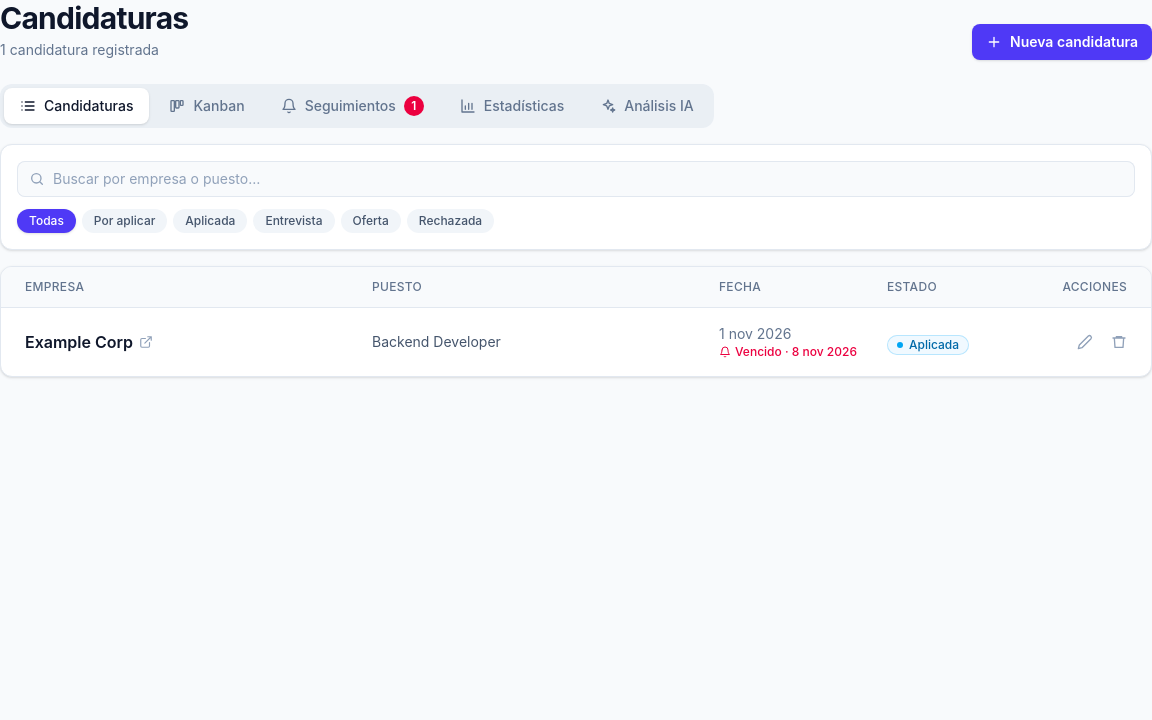
Test: ApplicationsPage › edits an application with the form pre-filled
Click the button named "Editar Backend Developer en Example Corp". click: (1085, 342)
box: [1069, 326, 1101, 358]
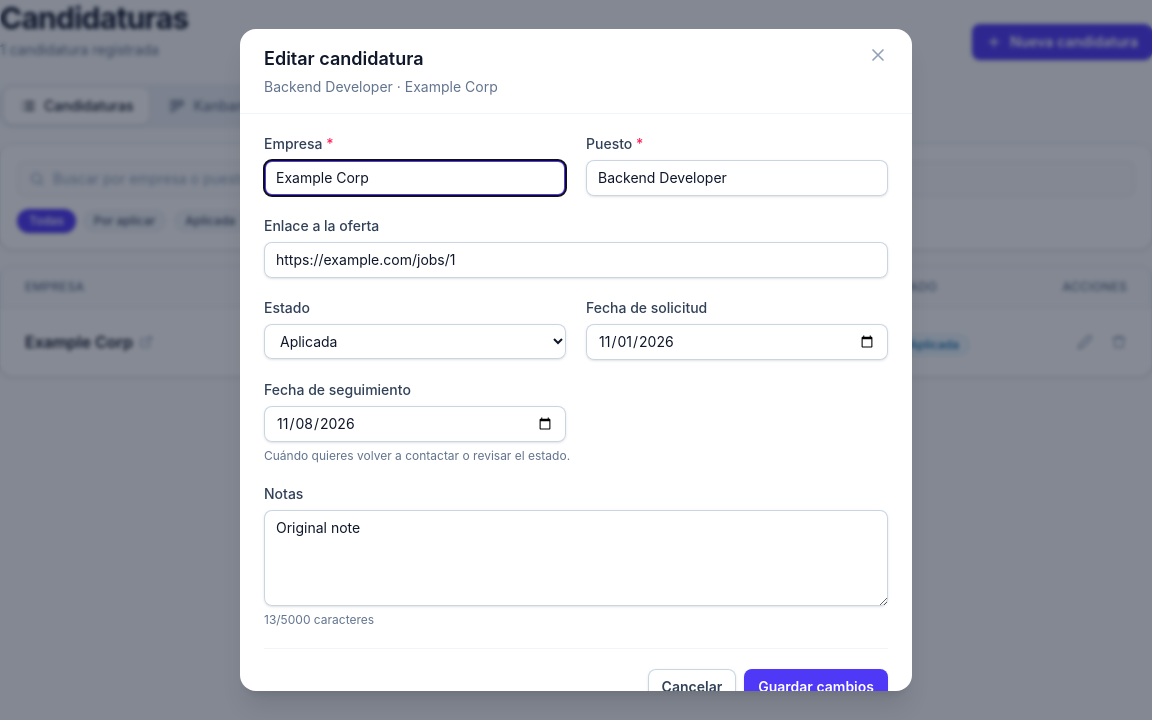
Now the field labelled "Empresa *" holds "Example Corp", box [264, 160, 566, 196]
Now the text box labelled "Notas" holds "Original note", box [264, 510, 888, 606]
Now the date field labelled "Fecha de solicitud" holds "2026-11-01", box [586, 324, 888, 360]
Select "Oferta" in the dropdown labelled "Estado". click: (415, 341)
box: [264, 324, 566, 359]
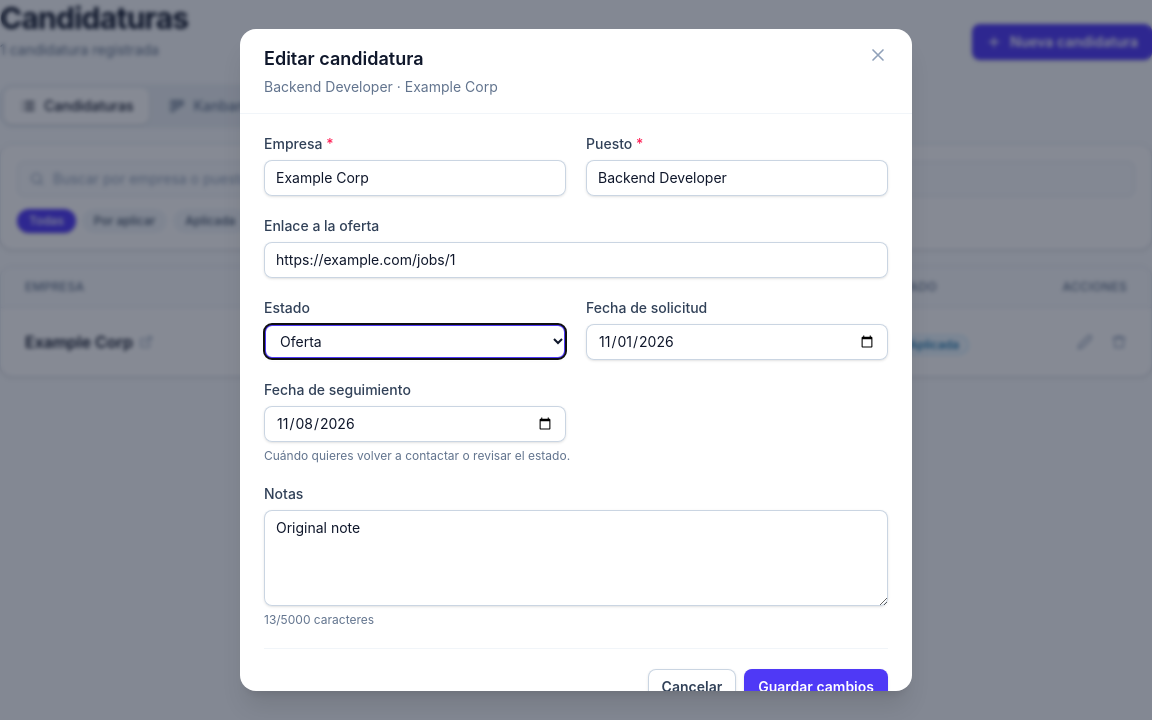
Clear the text box labelled "Notas". click: (576, 558)
box: [264, 510, 888, 606]
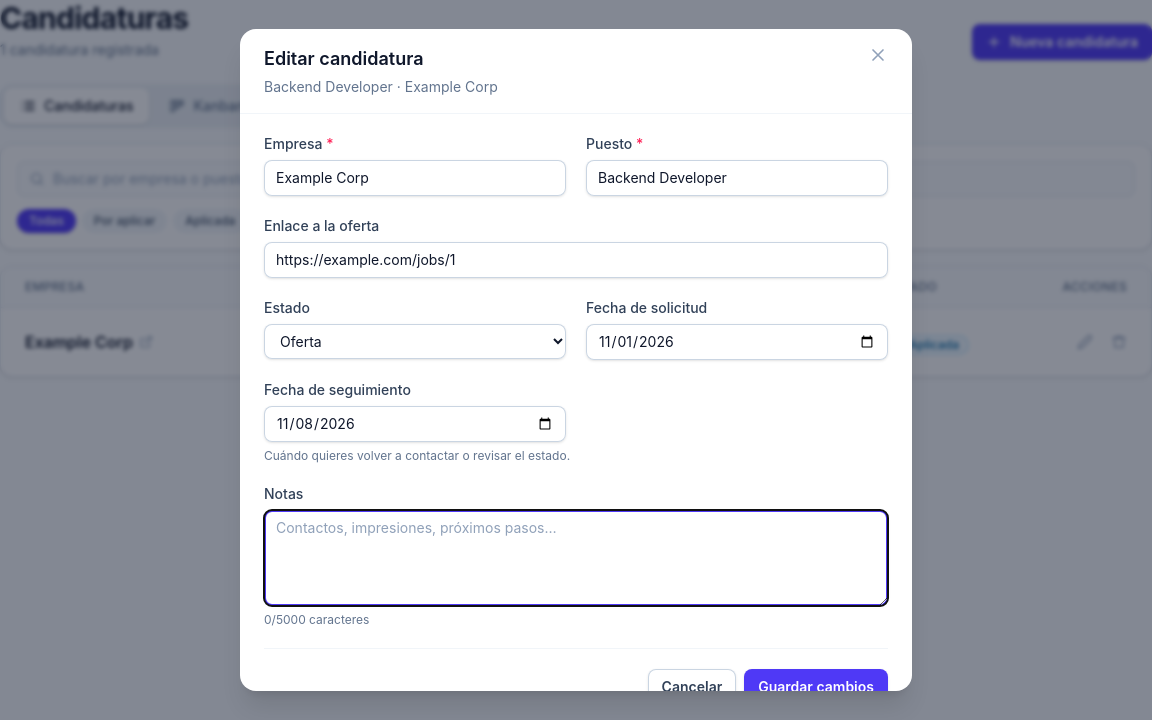
Click the button "Guardar cambios". click: (816, 687)
box: [744, 669, 888, 705]
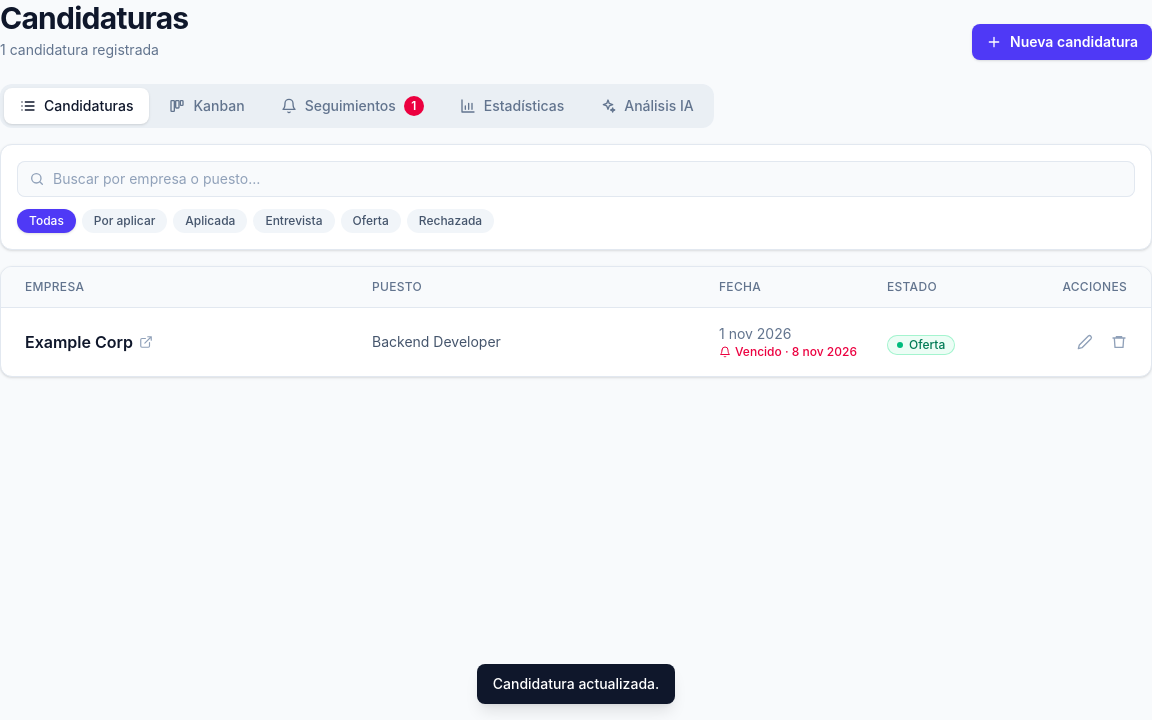
Now the dialog is gone
Now the text "Oferta" is shown, box [887, 334, 955, 354]
Now the message reads "Candidatura actualizada.", box [493, 675, 659, 692]
